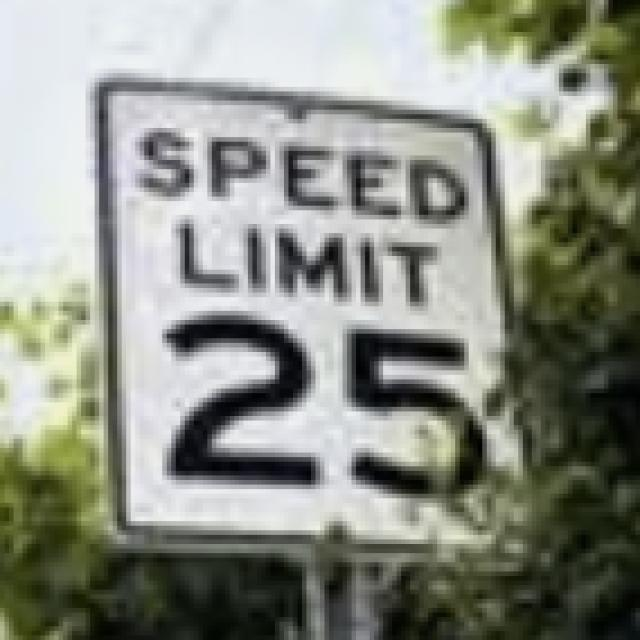speedLimit25: (89, 66, 537, 572)
